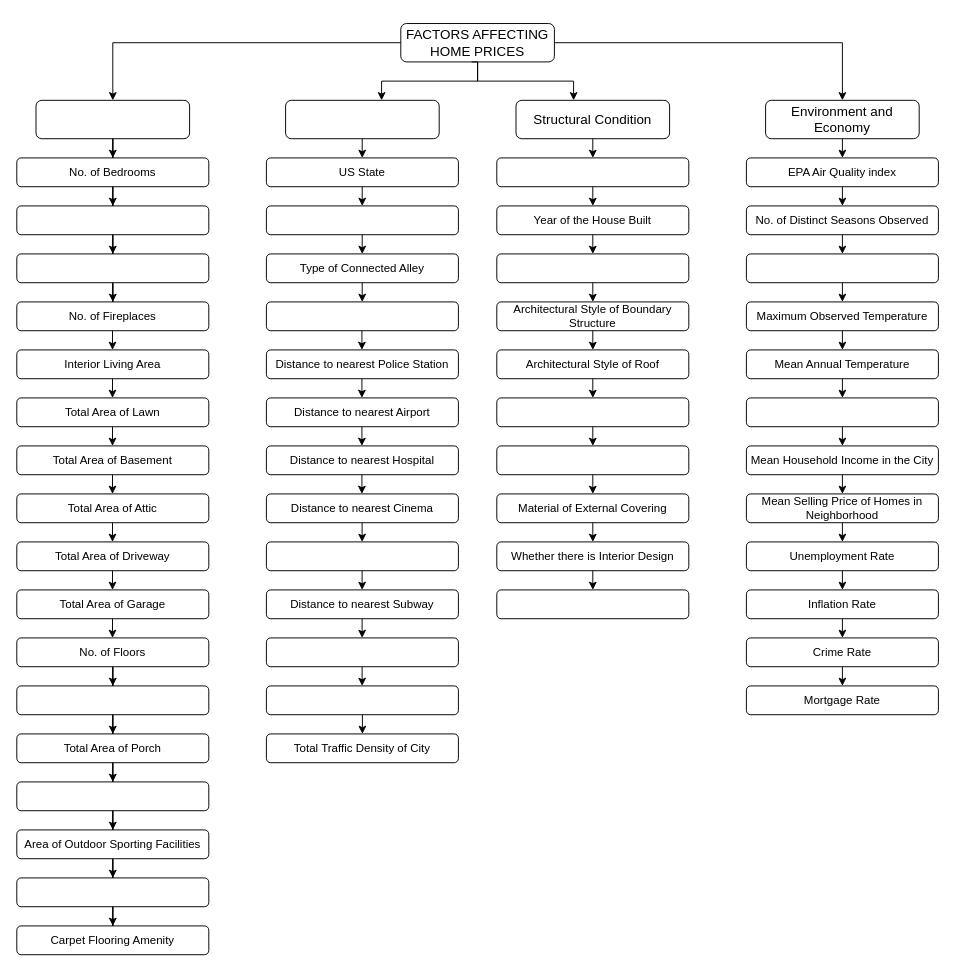
This 955x972 diagram has some shape labels left out. Here are the shapes that lost their labels. From the top down, the centre of each, then its label:
At (x=112, y=119): "Size and features".
At (x=362, y=119): "Locations and connections".
At (x=592, y=172): "Building Type".
At (x=112, y=220): "No. of Kitchens".
At (x=361, y=220): "Total Population Density of City".
At (x=112, y=268): "No. of Bathrooms".
At (x=592, y=268): "Year of most recent Renovation".
At (x=841, y=268): "Minimum Observed Temperature".
At (x=361, y=316): "Length of Connected Alley".
At (x=592, y=412): "Material of the Roof".
At (x=841, y=412): "Mean Noise Levels".
At (x=592, y=460): "Material of the Foundation".
At (x=361, y=556): "Distance to nearest Shopping Center".
At (x=592, y=604): "Slope of Land in Degrees".
At (x=361, y=652): "Quality Index of Schools in City".
At (x=112, y=700): "Depth of the Basement".
At (x=361, y=700): "Quality Index of Employment Opportunities".
At (x=112, y=796): "Total Area of Outdoor Pool".
At (x=112, y=892): "Central Air Conditioning Amenity".
